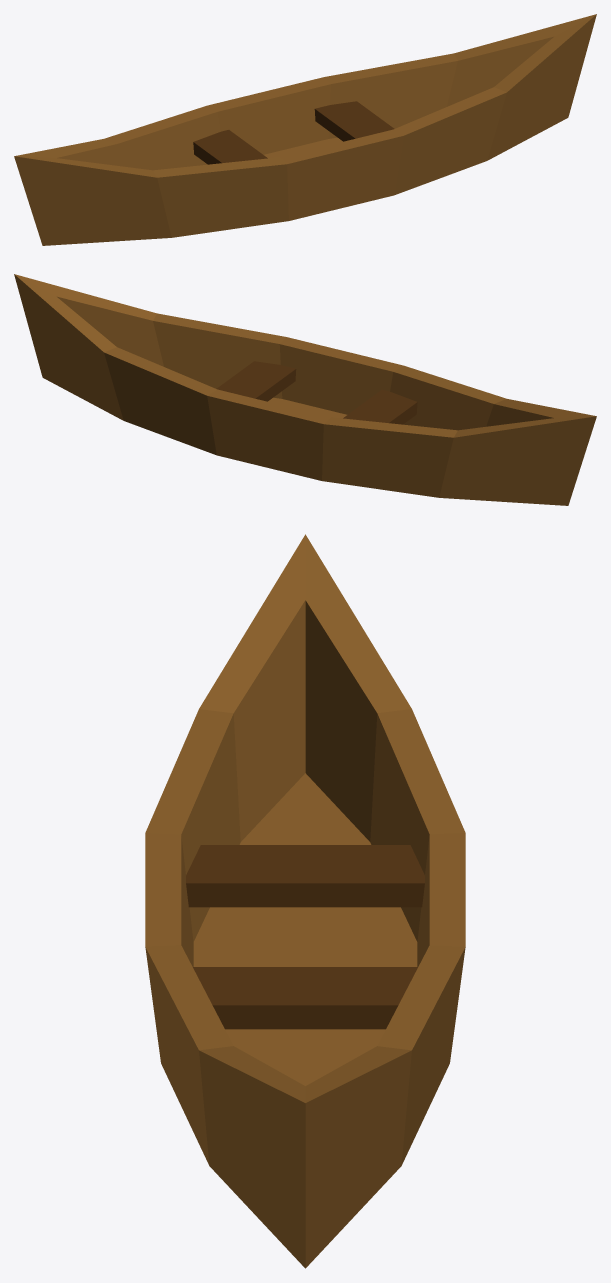
Rendered from ForestCanoe.fbx.
3 renders of one model, top to bottom at view 1: azimuth 30°, elevation 25°; view 2: azimuth 150°, elevation 25°; view 3: azimuth 270°, elevation 25°, orthographic. The views are drawn at different scales.
Parts seen in each view (by area): view 1: ForestCanoe; view 2: ForestCanoe; view 3: ForestCanoe.
Boxes of the visible parts, left/top/right/bottom form: ForestCanoe: left=14, top=14, right=596, bottom=245; ForestCanoe: left=14, top=274, right=596, bottom=505; ForestCanoe: left=145, top=534, right=465, bottom=1268.
Bounding box in the file's own units: 56.13 × 8.9 × 13.35.
